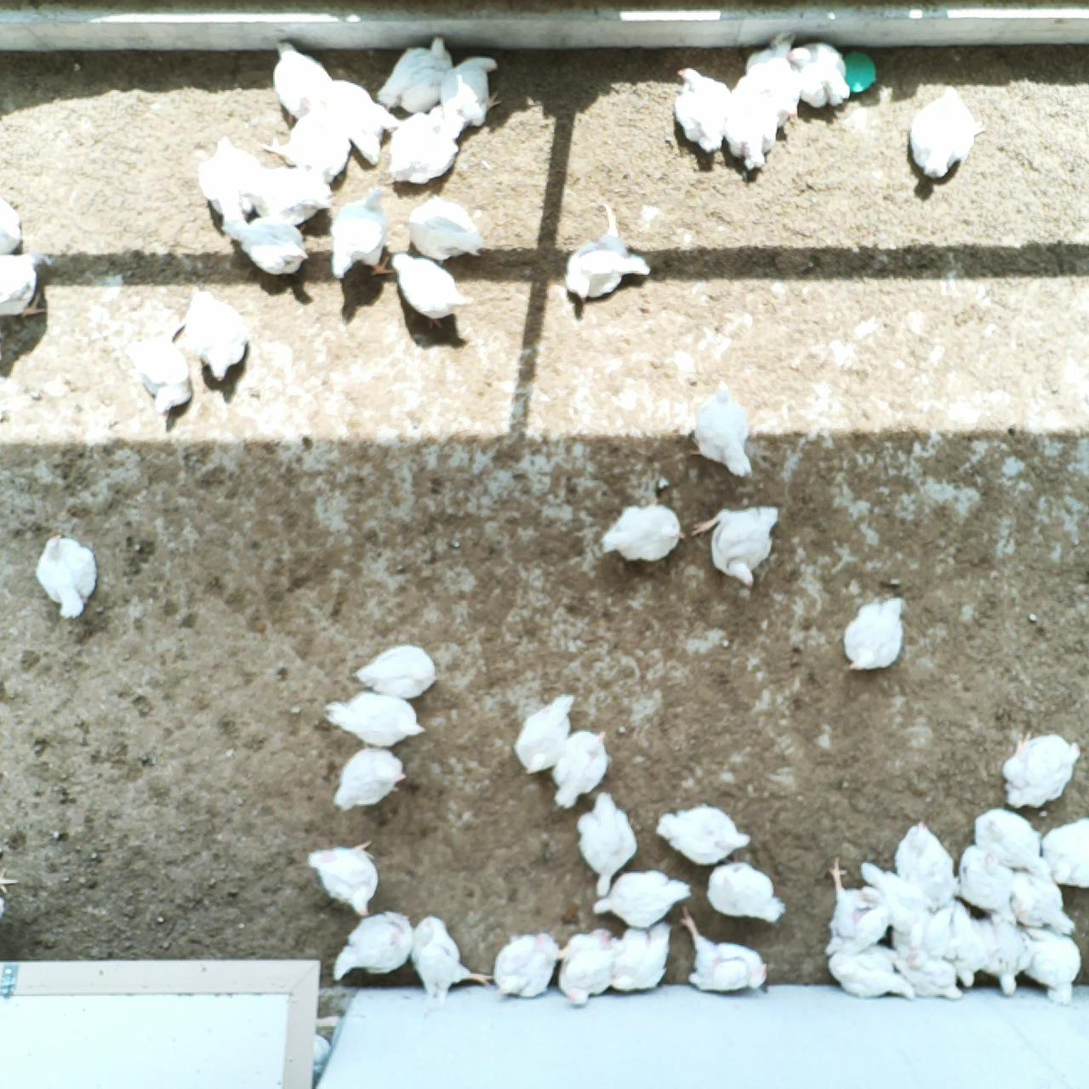chicken: (898, 81, 986, 184), (693, 502, 784, 590), (817, 857, 897, 956), (679, 908, 769, 995), (263, 97, 351, 184), (684, 376, 755, 483), (405, 912, 493, 998), (559, 228, 658, 302), (999, 727, 1083, 813), (131, 308, 195, 416), (391, 249, 473, 333), (573, 791, 635, 901), (325, 686, 427, 752), (589, 866, 696, 928), (328, 182, 393, 284), (327, 77, 401, 165), (720, 74, 783, 176), (199, 136, 262, 238), (387, 104, 464, 187), (375, 35, 458, 112), (1007, 922, 1084, 1005), (894, 818, 961, 913), (306, 835, 380, 920), (658, 801, 753, 867), (594, 498, 686, 566), (185, 288, 249, 385), (225, 208, 310, 281), (333, 908, 415, 983), (742, 31, 800, 134), (35, 531, 102, 620), (706, 858, 788, 930), (951, 841, 1018, 929), (234, 163, 333, 222), (835, 589, 907, 670), (671, 64, 731, 161), (270, 40, 336, 125), (512, 691, 577, 777), (969, 904, 1030, 995), (331, 745, 409, 816), (1008, 861, 1076, 940), (407, 192, 486, 259), (886, 938, 962, 1006), (436, 53, 503, 130), (552, 930, 617, 1008), (552, 724, 609, 812), (973, 803, 1043, 874), (785, 38, 852, 112), (940, 896, 992, 991), (486, 932, 563, 996), (886, 905, 961, 970), (861, 860, 929, 931), (824, 943, 907, 1001), (354, 643, 438, 700), (611, 917, 670, 998), (1036, 813, 1089, 887), (0, 252, 54, 322), (0, 193, 30, 259)
